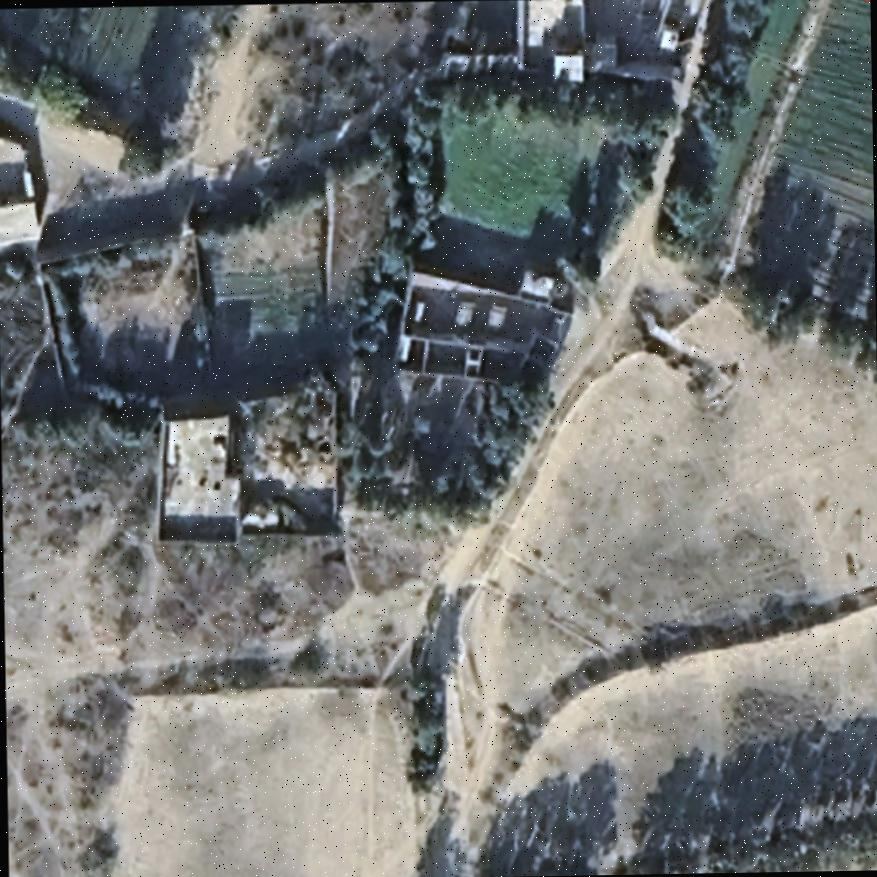Solarpanel: (452, 301, 472, 327), (485, 306, 504, 329)
